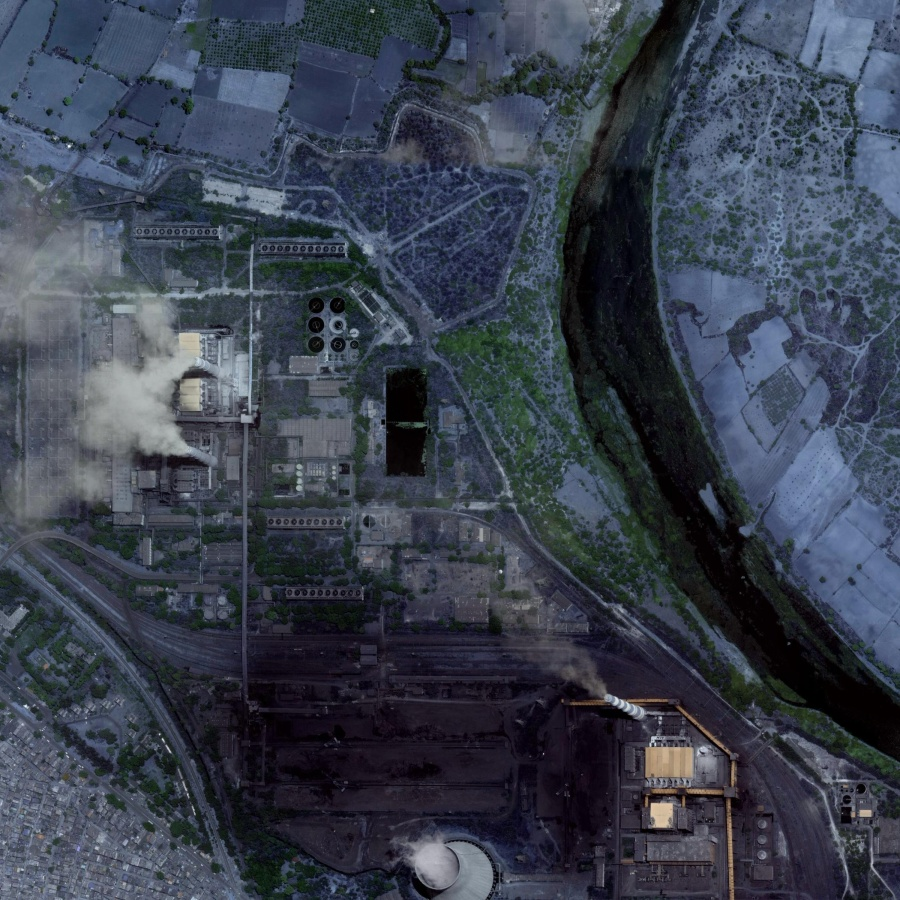PowerPlant: (28, 217, 300, 537)
